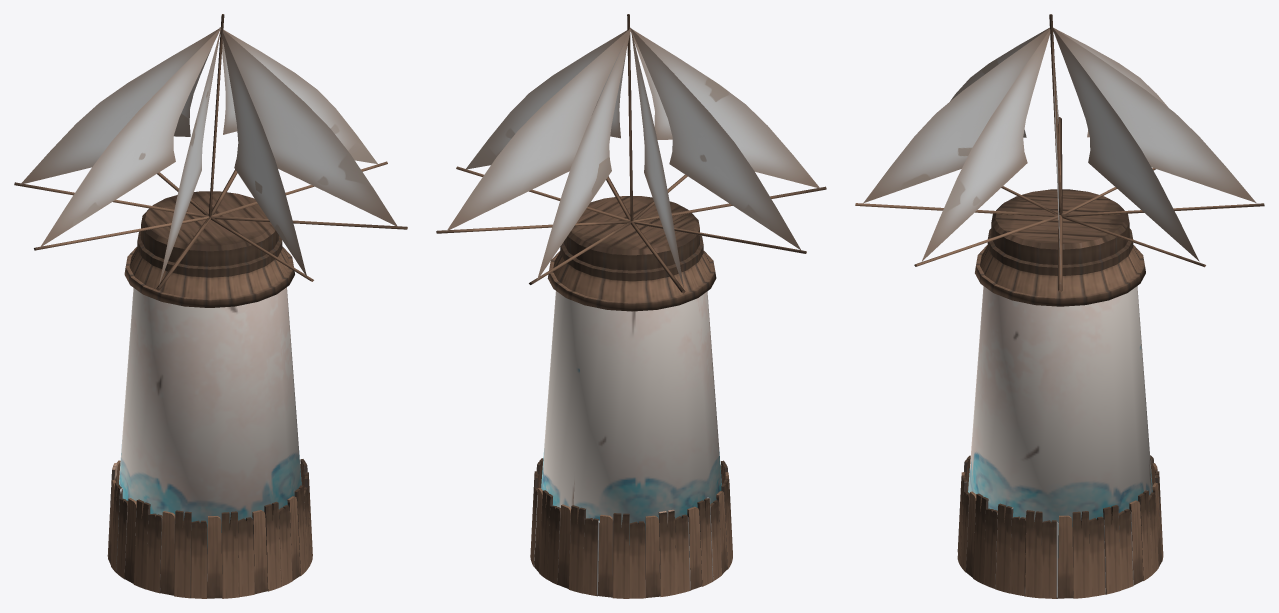
The model's file is Moulin.FBX.
The picture shows the model from 3 angles, left to right: view 1: azimuth 30°, elevation 25°; view 2: azimuth 150°, elevation 25°; view 3: azimuth 270°, elevation 25°; orthographic projection.
Visible parts, largest first — view 1: Z3_Windmill_Body, Z3_Windmill_Sail; view 2: Z3_Windmill_Body, Z3_Windmill_Sail; view 3: Z3_Windmill_Body, Z3_Windmill_Sail.
Boxes of the visible parts, <box> form: Z3_Windmill_Body: <box>107,191,312,598</box>; Z3_Windmill_Sail: <box>14,14,407,290</box>; Z3_Windmill_Body: <box>530,196,732,598</box>; Z3_Windmill_Sail: <box>436,14,826,293</box>; Z3_Windmill_Body: <box>957,189,1163,598</box>; Z3_Windmill_Sail: <box>855,14,1264,292</box>.
Bounding box in the file's own units: 1255 × 1847 × 1255.
